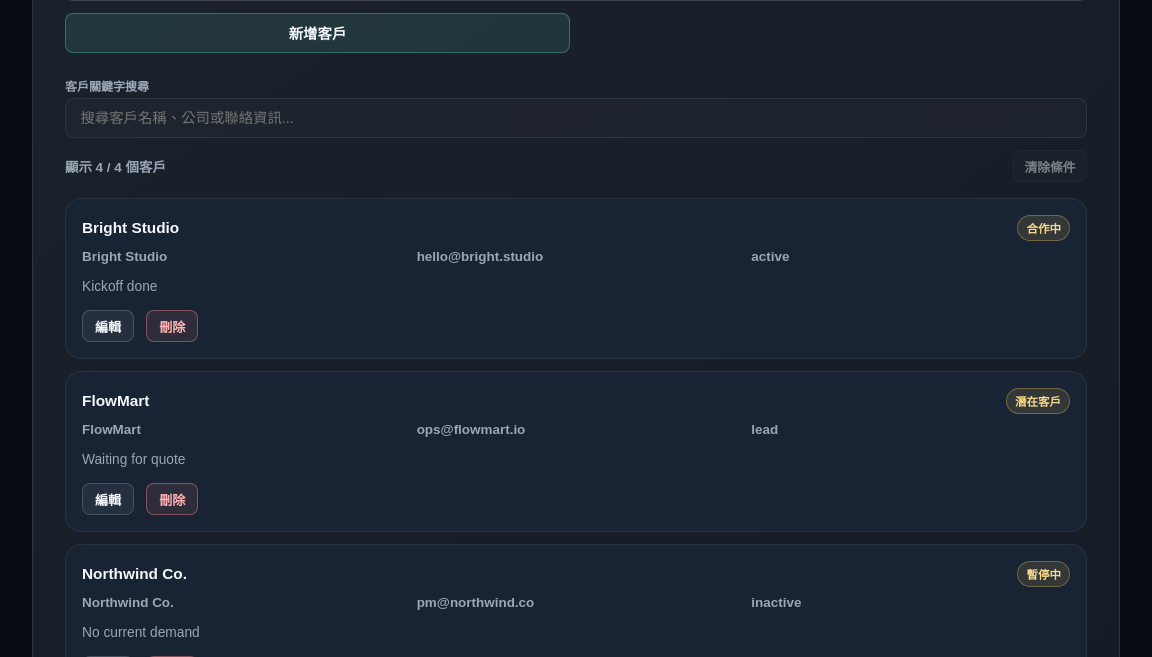
Test: ClientsPage Supabase integration behaviors › deletes the selected client only
(page scrolled)
Click the button with test id "clients-delete-button" below "Kickoff done".
click(172, 326)  # box [146,310,198,342]
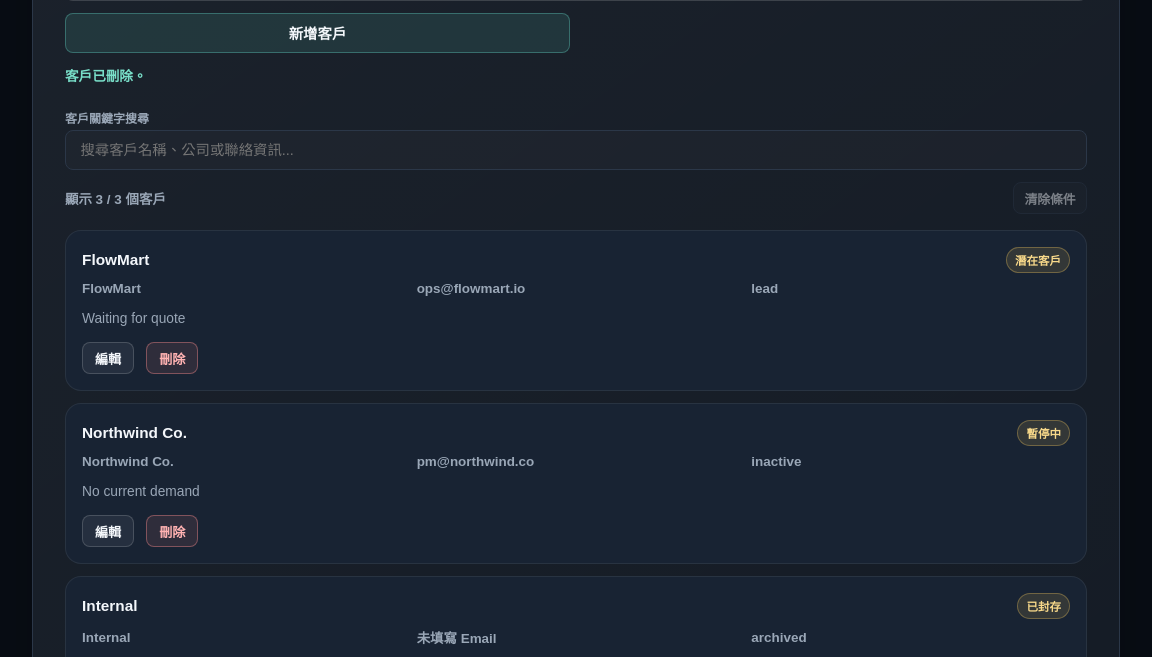
Check: the heading "FlowMart" is shown, box [82,251,149,269]
Check: the text with test id "clients-result-count" shows "3 / 3", box [65,188,166,208]
Check: the heading "Bright Studio" is gone
